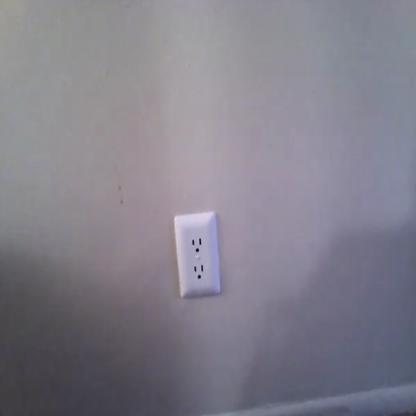OUTLET: (173, 211, 222, 296)
